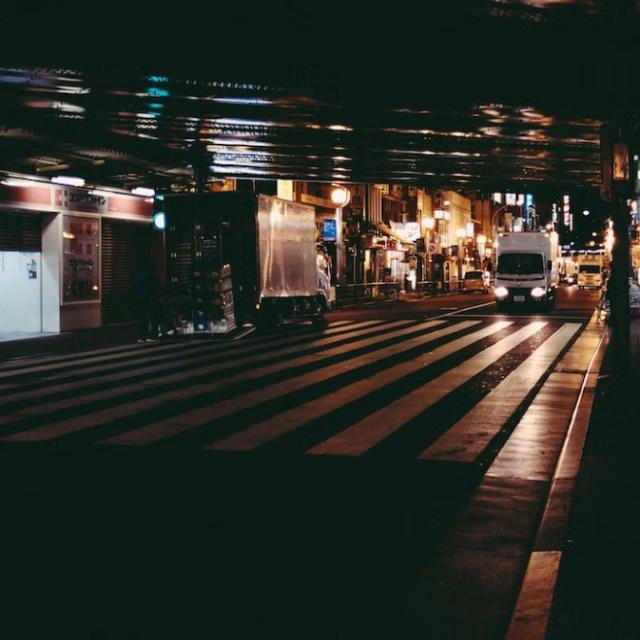car: (462, 270, 489, 294)
truck: (158, 191, 334, 345), (494, 228, 556, 310), (577, 251, 603, 290)
